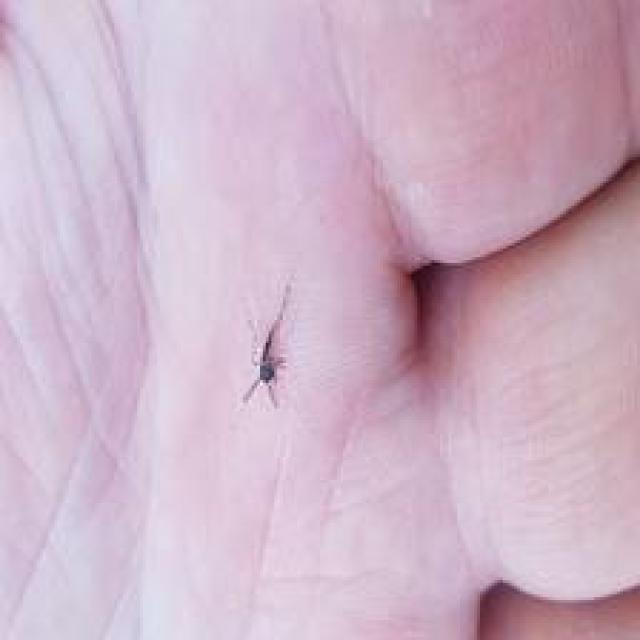Aedes albopictus: (240, 280, 294, 409)
